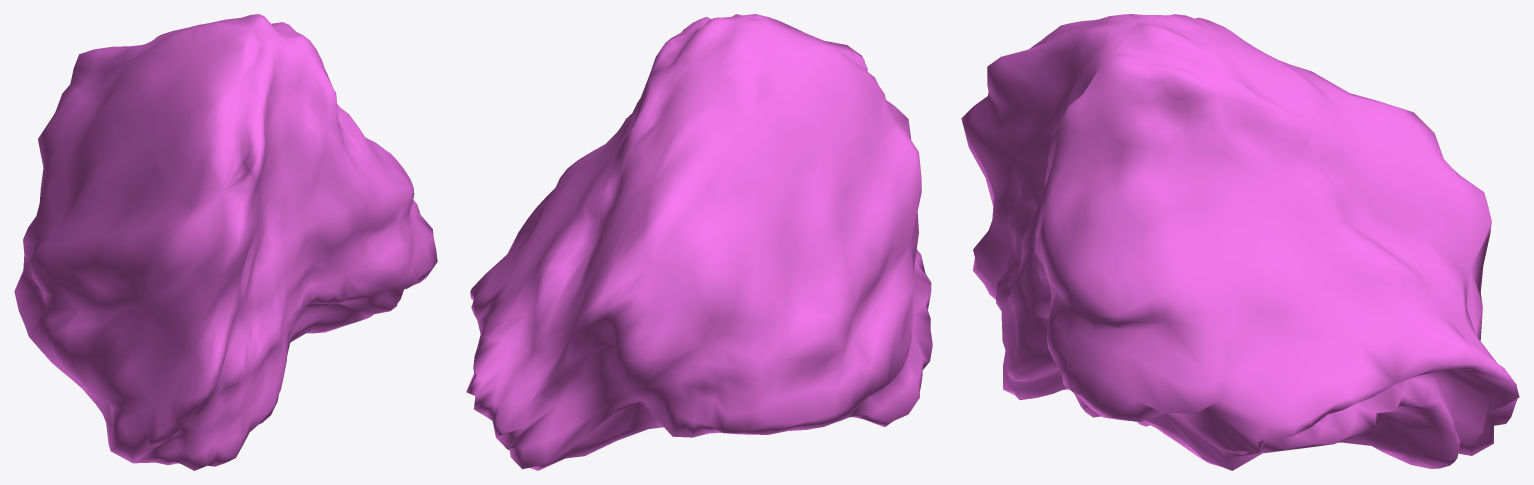
3 renders of one model, left to right at view 1: azimuth 30°, elevation 25°; view 2: azimuth 150°, elevation 25°; view 3: azimuth 270°, elevation 25°, orthographic. The views are drawn at different scales.
Parts seen in each view (by area): view 1: Pinkitem; view 2: Pinkitem; view 3: Pinkitem.
Part boxes in pixels (box(x1,y1,x2,y2)): Pinkitem: box(14, 14, 437, 470); Pinkitem: box(466, 14, 932, 470); Pinkitem: box(961, 14, 1519, 470).
Bounding box in the file's own units: 53.19 × 53.04 × 62.37.
